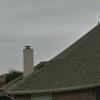Chimney: (18, 38, 37, 70)
